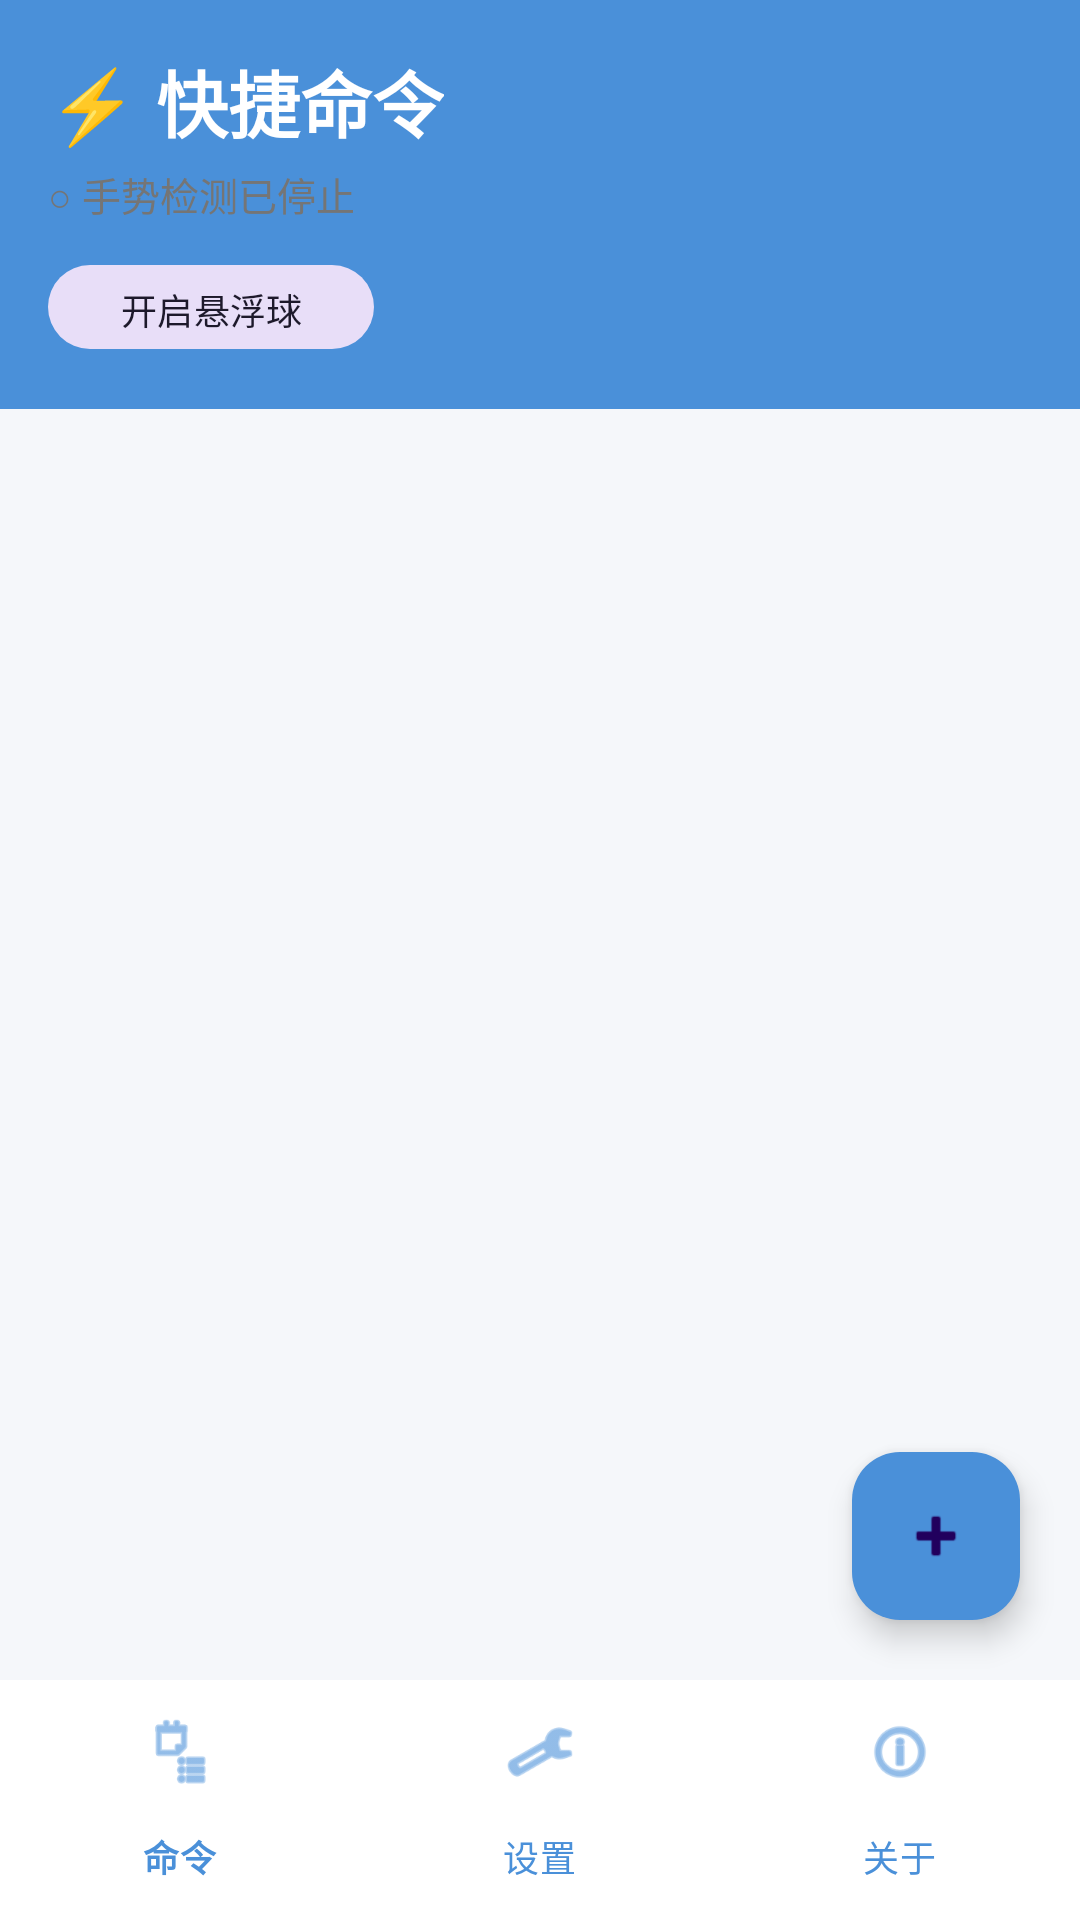

Icon bounding boxes for this 1080*1920 phone screenshot, format BBox(x1, y1, x2, y2):
添加命令: BBox(852, 1452, 1020, 1620)
